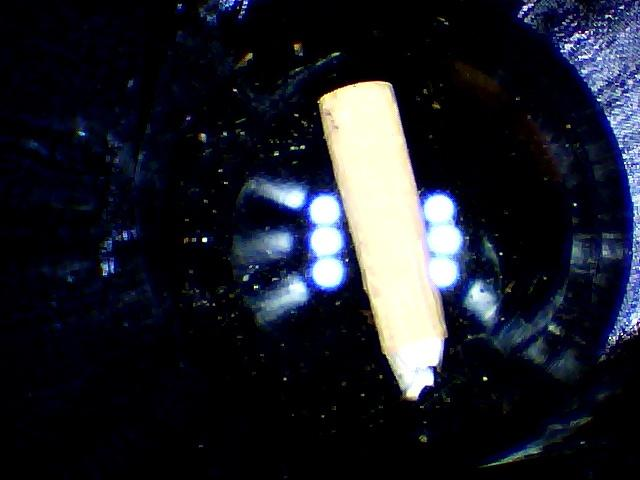megot: (310, 77, 467, 408)
